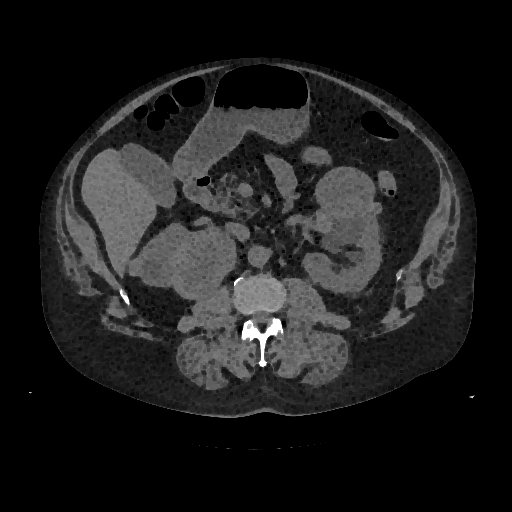Lesion: (171, 231, 235, 297)
